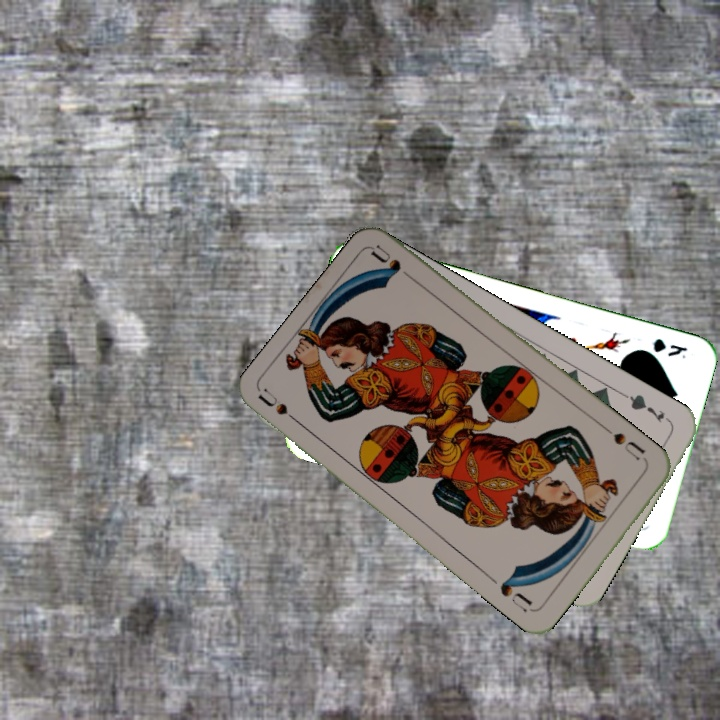G7: (619, 390, 673, 426)
GK: (649, 334, 690, 361)
SU: (256, 385, 308, 431), (601, 424, 651, 468)
